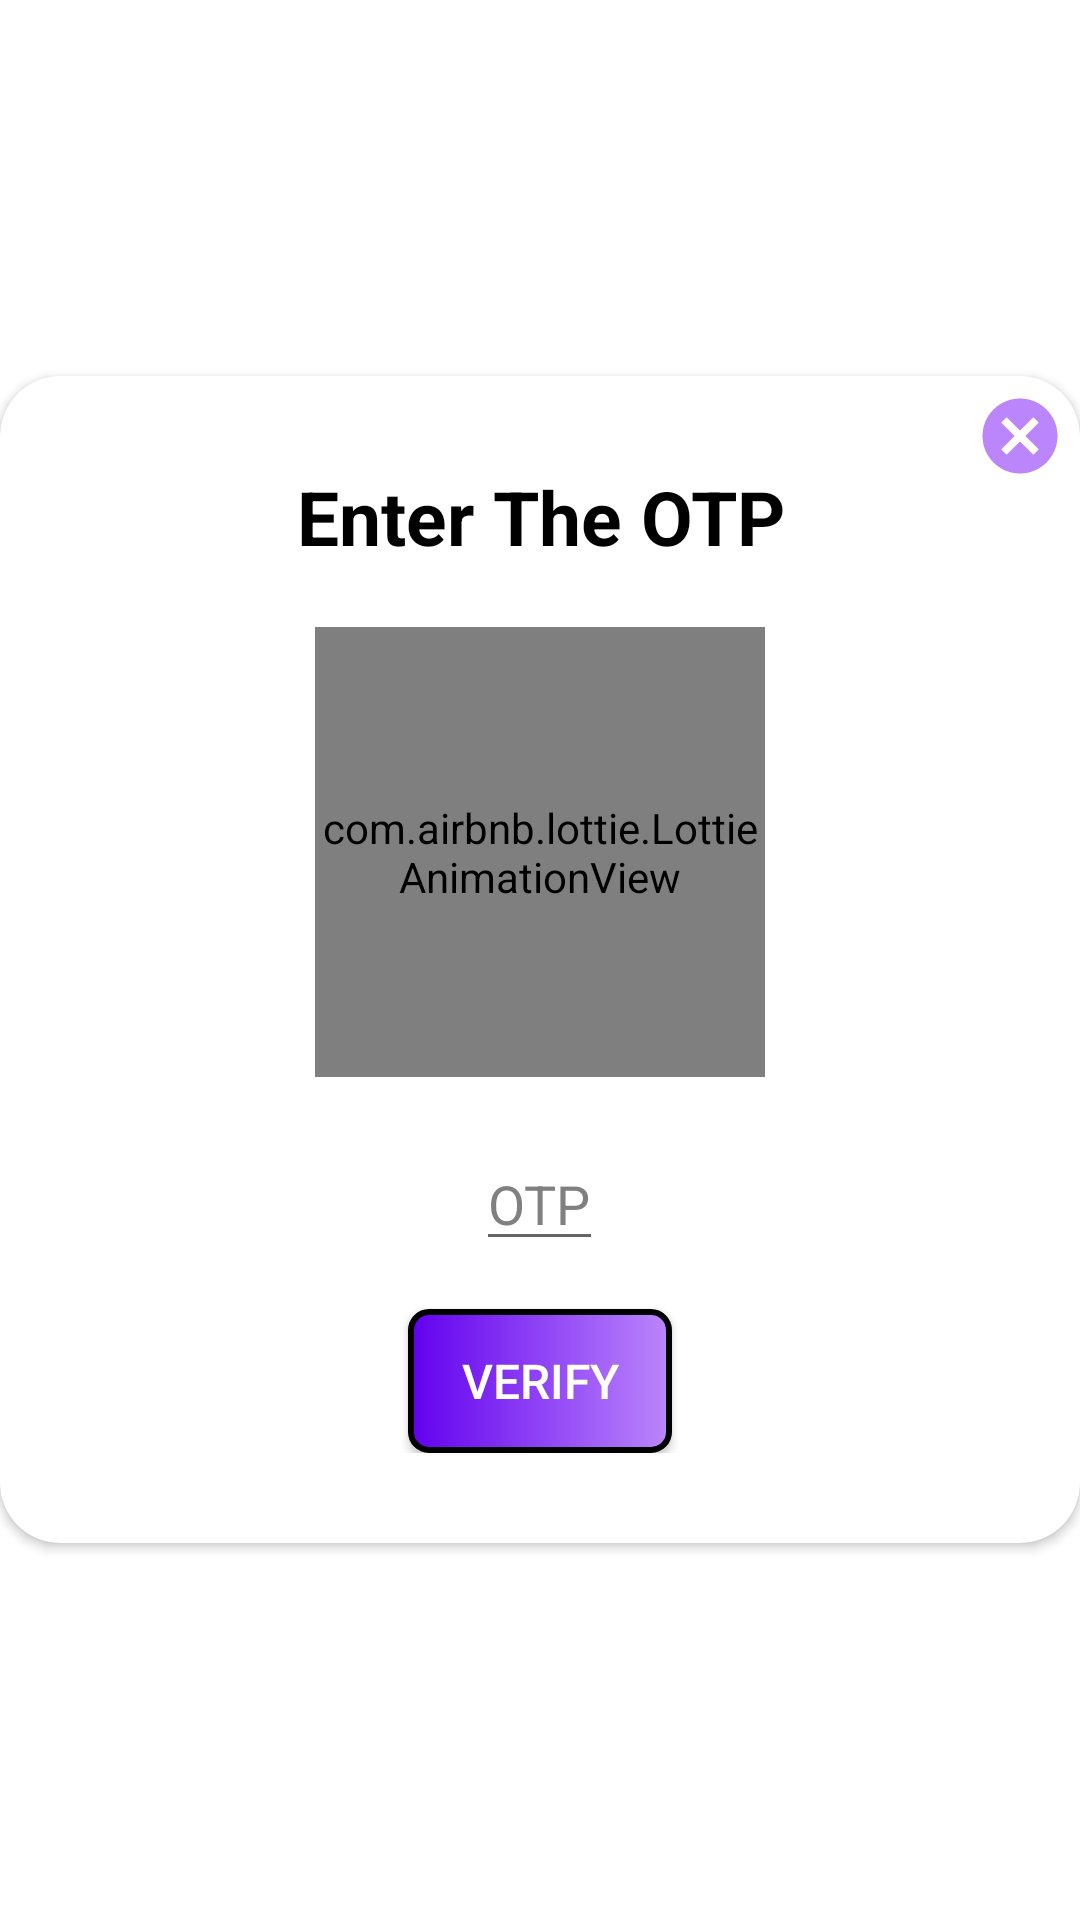

Screen size 1080w x 1920h. Icon name, then its box in pixels as rect(x1, y1, x2, y2):
cancel rf: rect(982, 398, 1058, 474)
